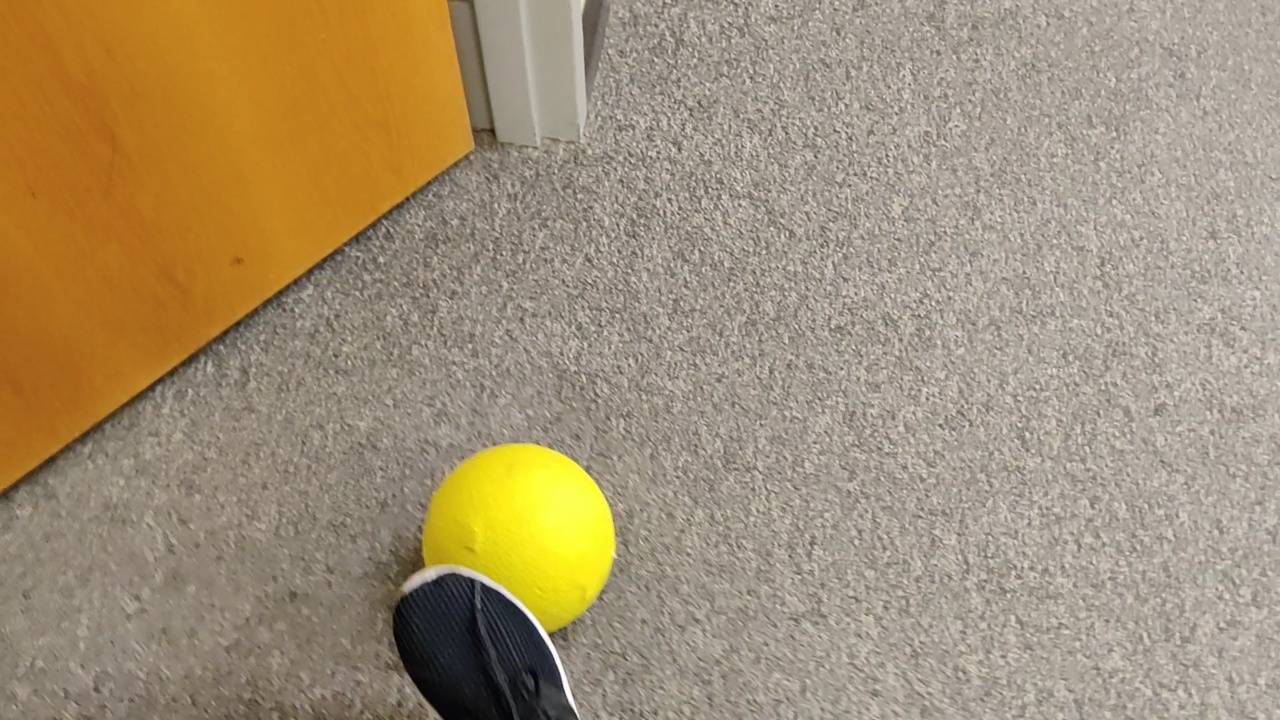Ball: (419, 443, 618, 632)
